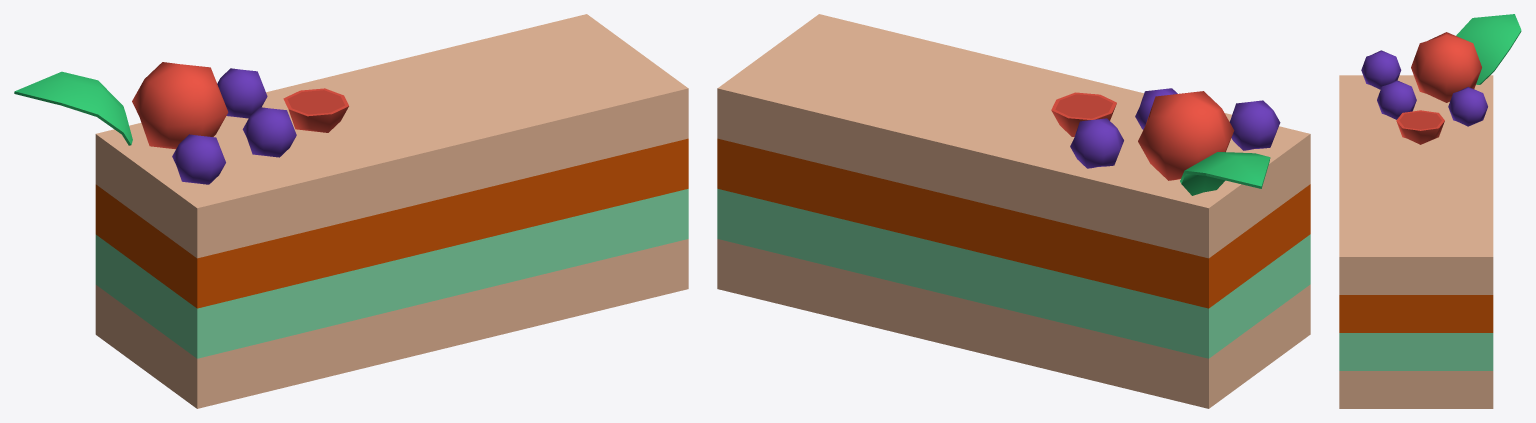
The model's file is Cake.fbx.
The picture shows the model from 3 angles, left to right: view 1: azimuth 30°, elevation 25°; view 2: azimuth 150°, elevation 25°; view 3: azimuth 270°, elevation 25°; orthographic projection. The views are drawn at different scales.
Parts seen in each view (by area): view 1: Cake; view 2: Cake; view 3: Cake.
Boxes of the visible parts, box(x1,y1,x2,y2) form: Cake: box(14, 14, 688, 408); Cake: box(717, 14, 1310, 408); Cake: box(1339, 14, 1521, 408).
Bounding box in the file's own units: 40.55 × 19.43 × 15.12.
